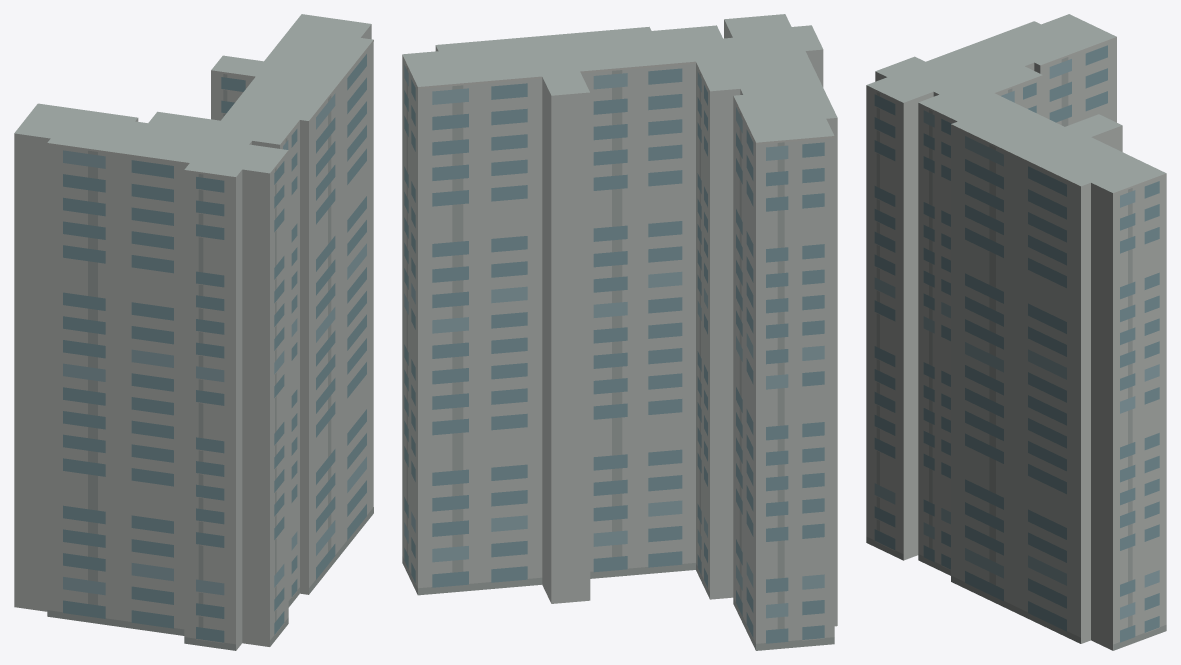
Rendered from residential-5de68514-b45d-45b5-84fb-da6ddd155f7a.glb.
The picture shows the model from 3 angles, left to right: view 1: azimuth 30°, elevation 25°; view 2: azimuth 150°, elevation 25°; view 3: azimuth 270°, elevation 25°; orthographic projection. The views are drawn at different scales.
Visible parts, largest first — view 1: residential-5de68514-b45d-45b5-84fb-da6ddd155f7a.tmp; view 2: residential-5de68514-b45d-45b5-84fb-da6ddd155f7a.tmp; view 3: residential-5de68514-b45d-45b5-84fb-da6ddd155f7a.tmp.
Part boxes in pixels (x1,y1,x2,y2): residential-5de68514-b45d-45b5-84fb-da6ddd155f7a.tmp: [14, 14, 373, 650]; residential-5de68514-b45d-45b5-84fb-da6ddd155f7a.tmp: [402, 14, 837, 650]; residential-5de68514-b45d-45b5-84fb-da6ddd155f7a.tmp: [866, 14, 1166, 650].
Size of the model in its own units: 50.4 by 60 by 35.69.
